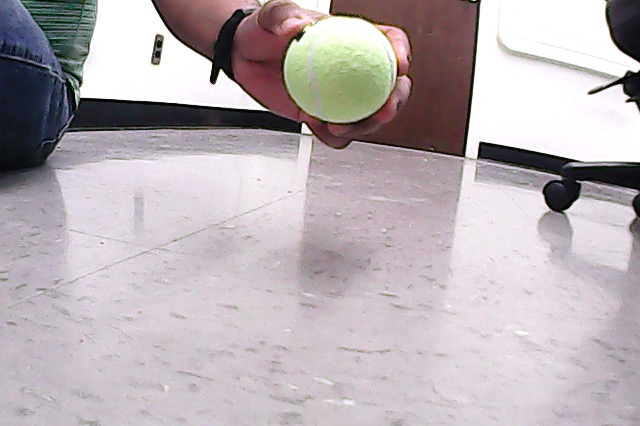ball: (284, 16, 397, 125)
